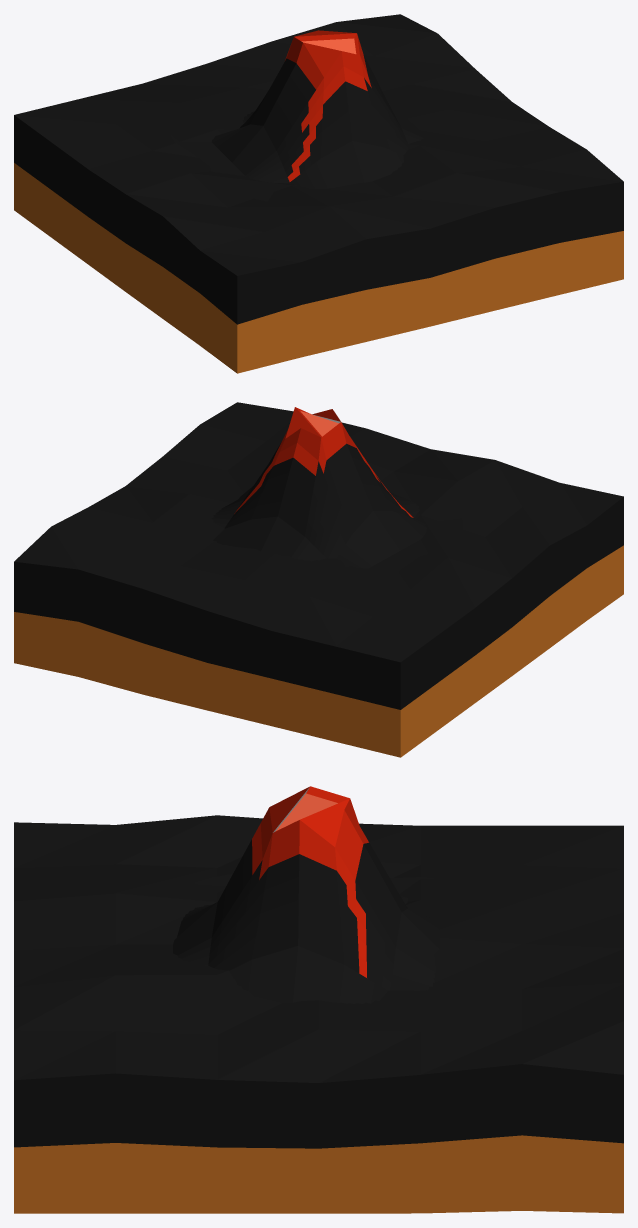
The model's file is VOLCAN_roche-feu.fbx.
3 views of the same model, one above another, from view 1: azimuth 30°, elevation 25°; view 2: azimuth 150°, elevation 25°; view 3: azimuth 270°, elevation 25° (orthographic). The views are drawn at different scales.
Parts seen in each view (by area): view 1: montagne.001; view 2: montagne.001; view 3: montagne.001.
Part boxes in pixels (box(x1,y1,x2,y2)): montagne.001: box(14, 14, 623, 373); montagne.001: box(14, 402, 623, 757); montagne.001: box(14, 786, 623, 1213).
Bounding box in the file's own units: 5 × 2.59 × 5.
